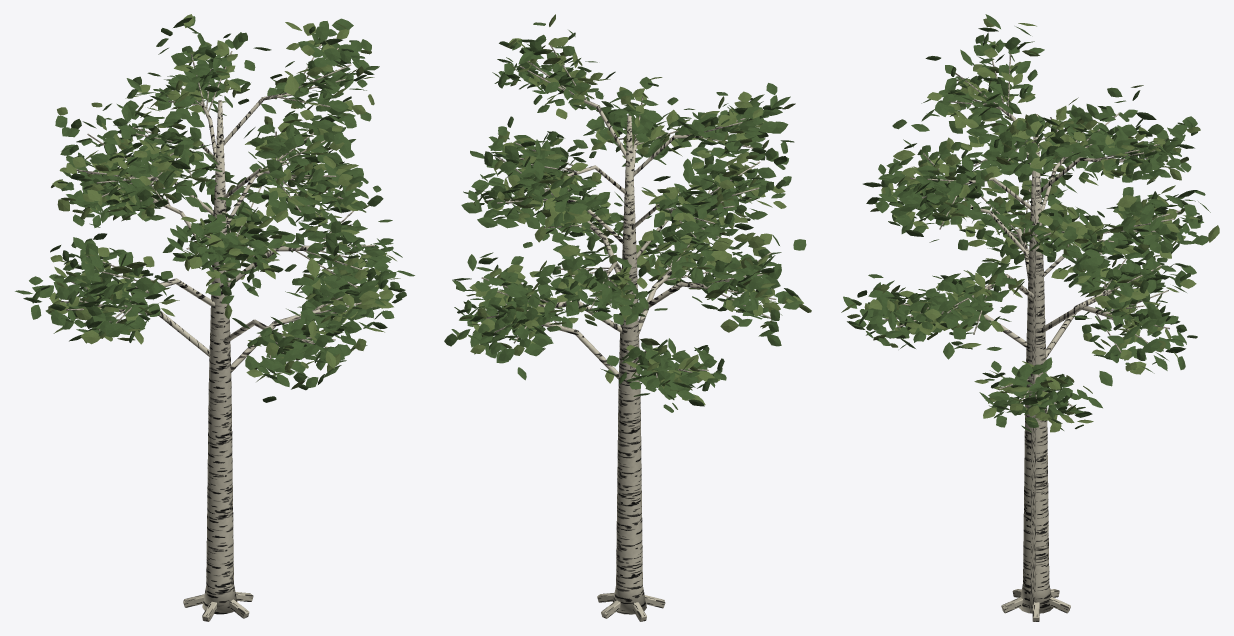
File: birch_a.glb
3 views of the same model, side by side, from view 1: azimuth 30°, elevation 25°; view 2: azimuth 150°, elevation 25°; view 3: azimuth 270°, elevation 25° (orthographic). The views are drawn at different scales.
Parts seen in each view (by area): view 1: Tree; view 2: Tree; view 3: Tree.
Boxes of the visible parts, box(x1,y1,x2,y2) form: Tree: box(15, 14, 414, 621); Tree: box(444, 14, 811, 621); Tree: box(841, 14, 1219, 621).
Bounding box in the file's own units: 4.78 × 7.51 × 4.76.
Materials: 3 (3 with a texture image).
